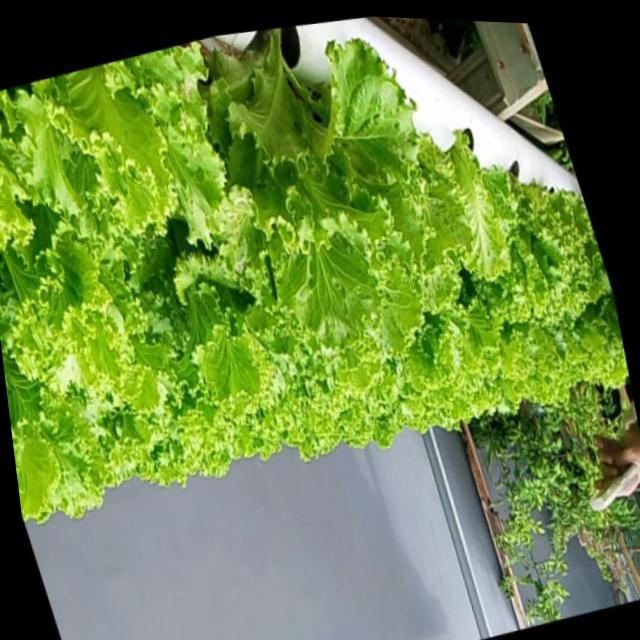Mature: (0, 29, 624, 526), (198, 26, 461, 357), (449, 148, 604, 329)
